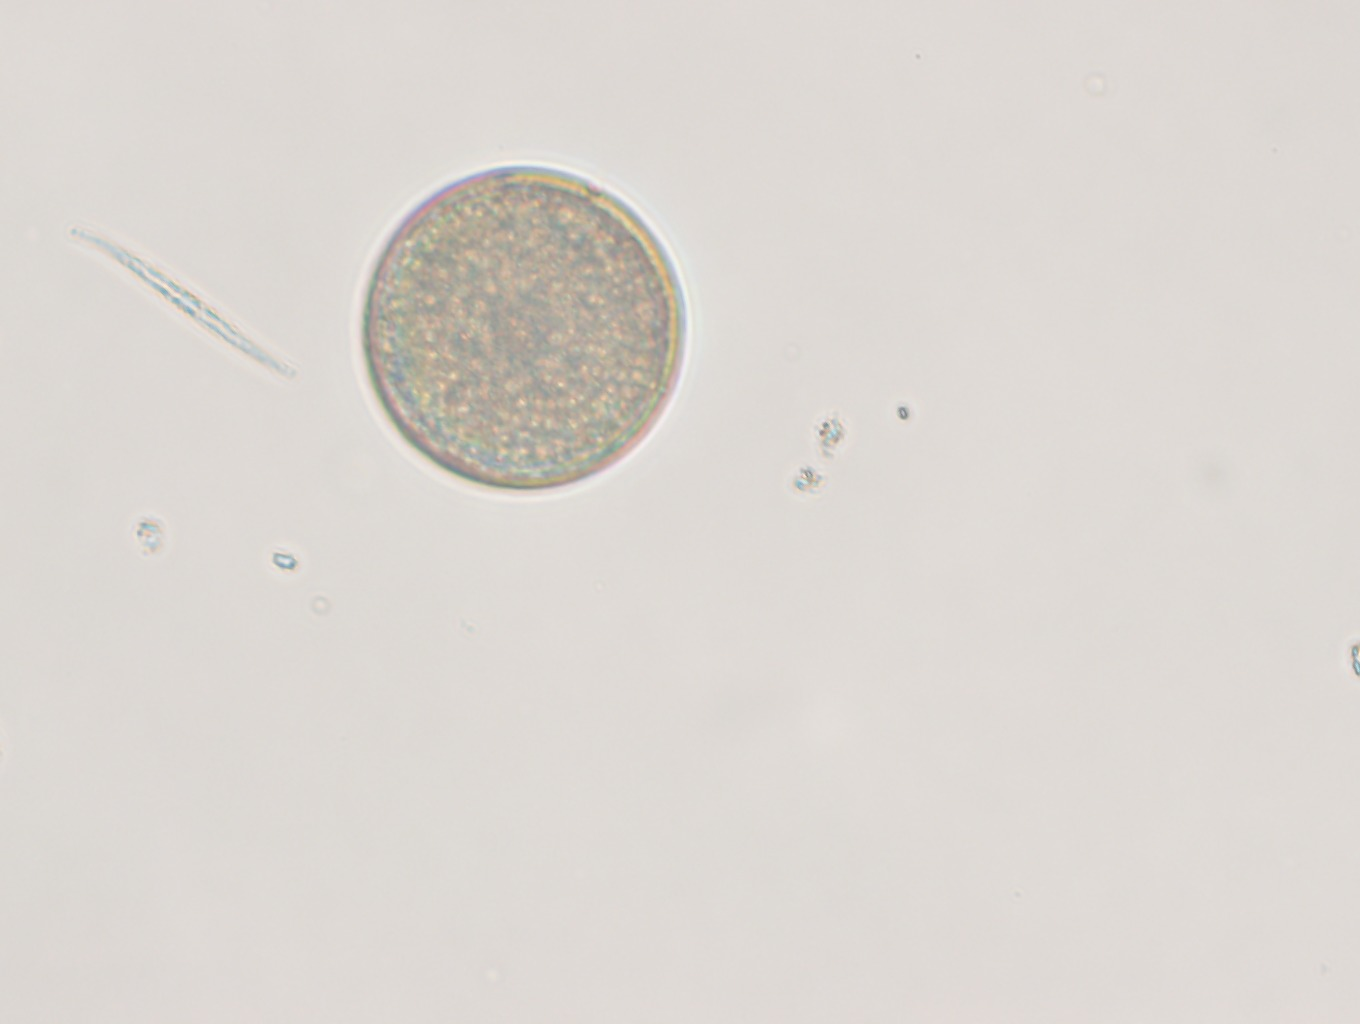coscinodiscus: (356, 160, 691, 496)
pleurosigma pelagicum: (66, 221, 305, 383)
